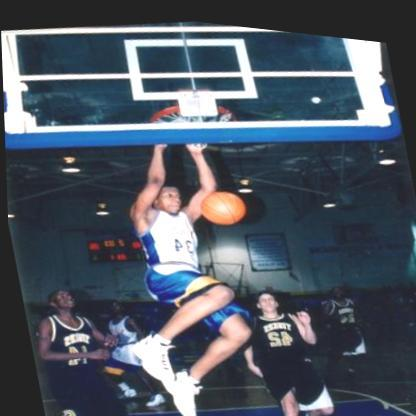basketball: (195, 180, 247, 225)
rim: (144, 89, 237, 131)
